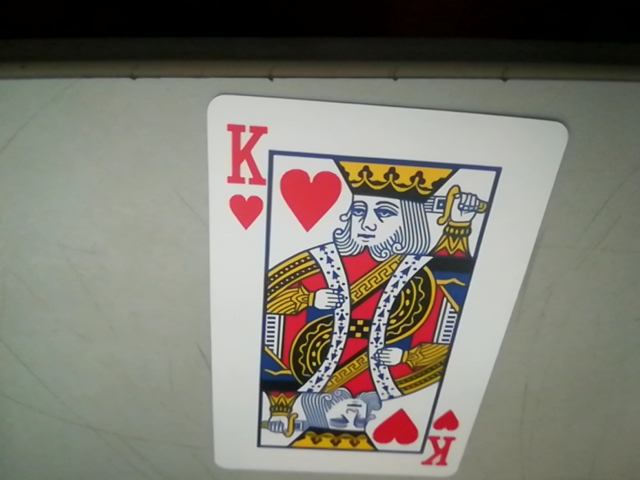hx k: (222, 120, 267, 231), (420, 410, 458, 467)
